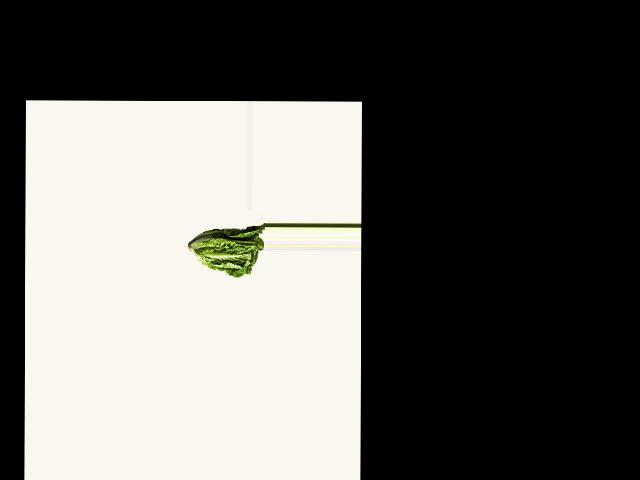lettuce: (189, 225, 264, 280)
